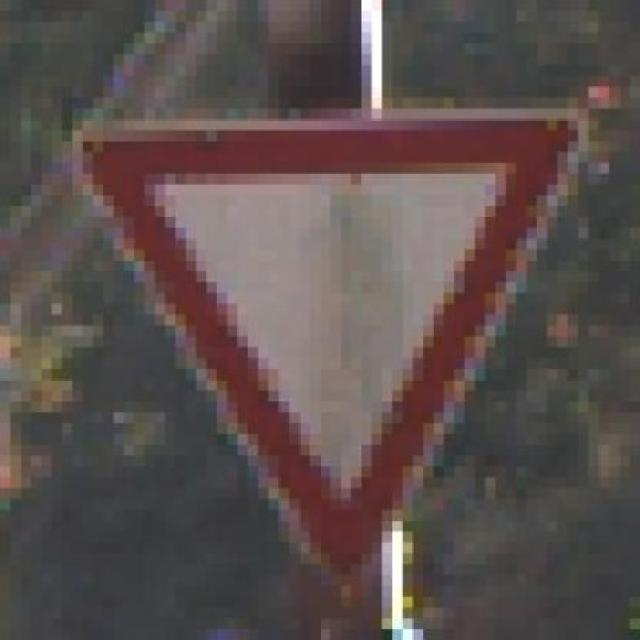Give Way: (41, 108, 578, 597)
